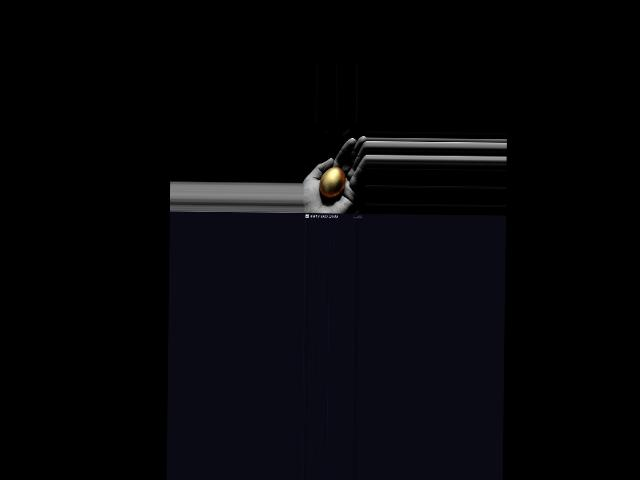egg: (320, 166, 346, 197)
